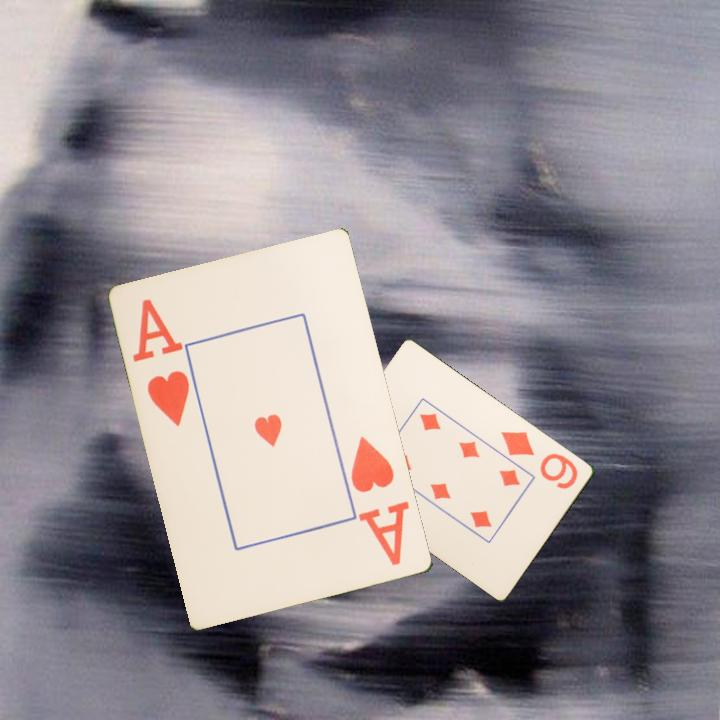6d: (498, 427, 581, 492)
Ah: (347, 433, 413, 569), (129, 295, 193, 430)
